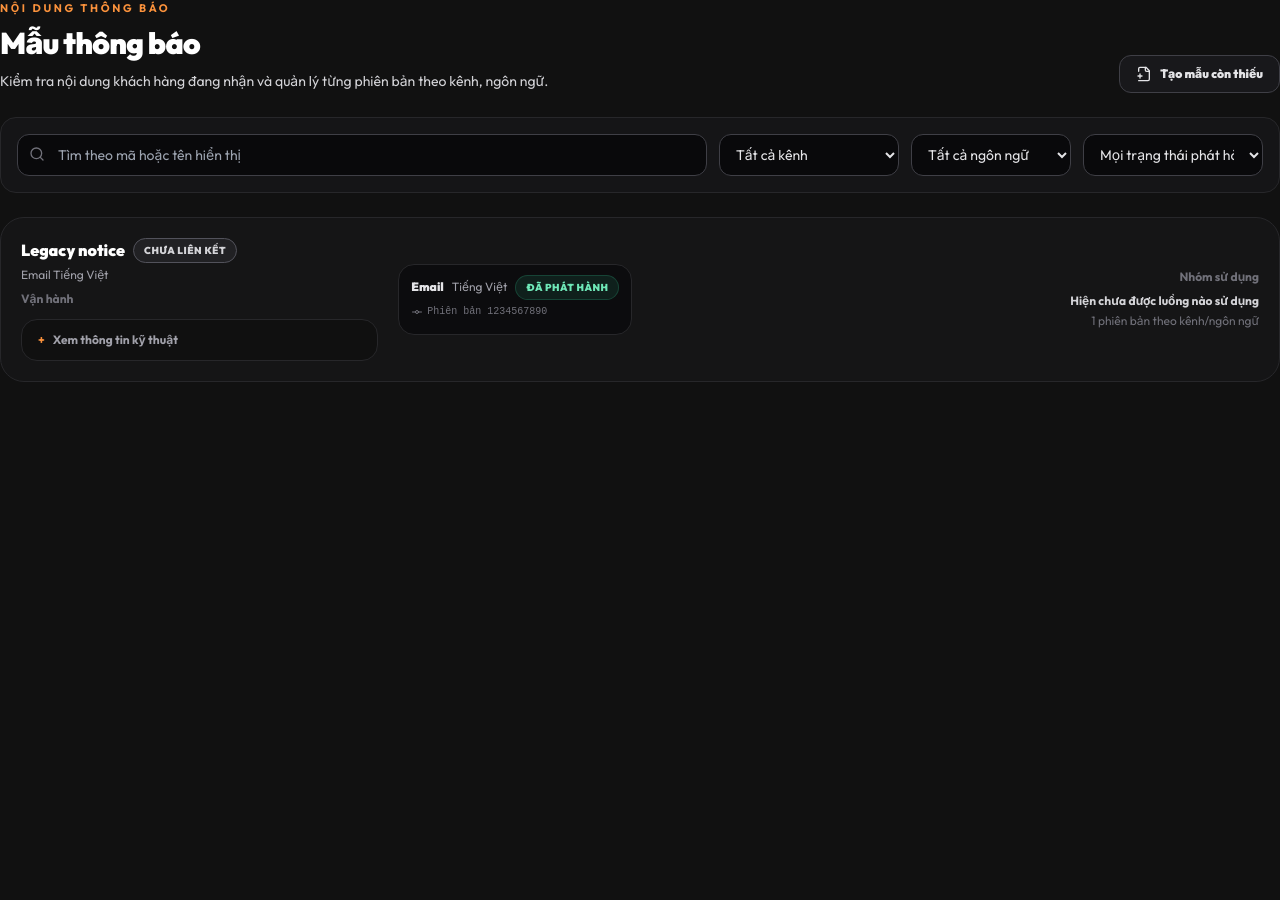
it: NotificationTemplateListPage › treats a published template without a producer contract as unlinked, not warning
Expected: the heading "Legacy notice" is shown, top-left (21, 238), bottom-right (125, 262)
Expected: the text "Chưa liên kết" is shown, top-left (133, 238), bottom-right (237, 262)
Click the button "Tạo mẫu còn thiếu" at (1200, 74), box top-left (1119, 54), bottom-right (1279, 92)
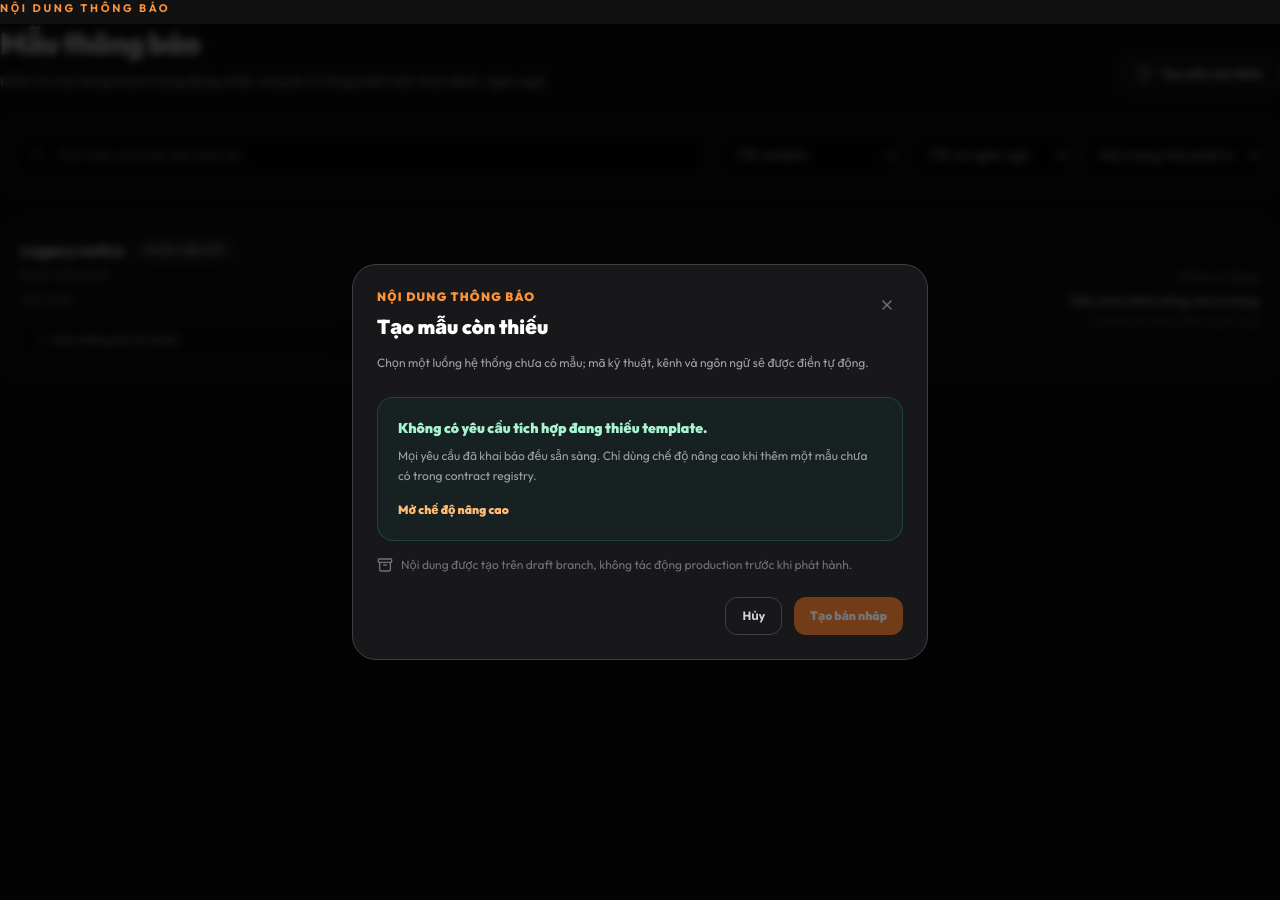
Expected: the text "Không có yêu cầu tích hợp đang thiếu template." is shown, top-left (398, 419), bottom-right (707, 437)
